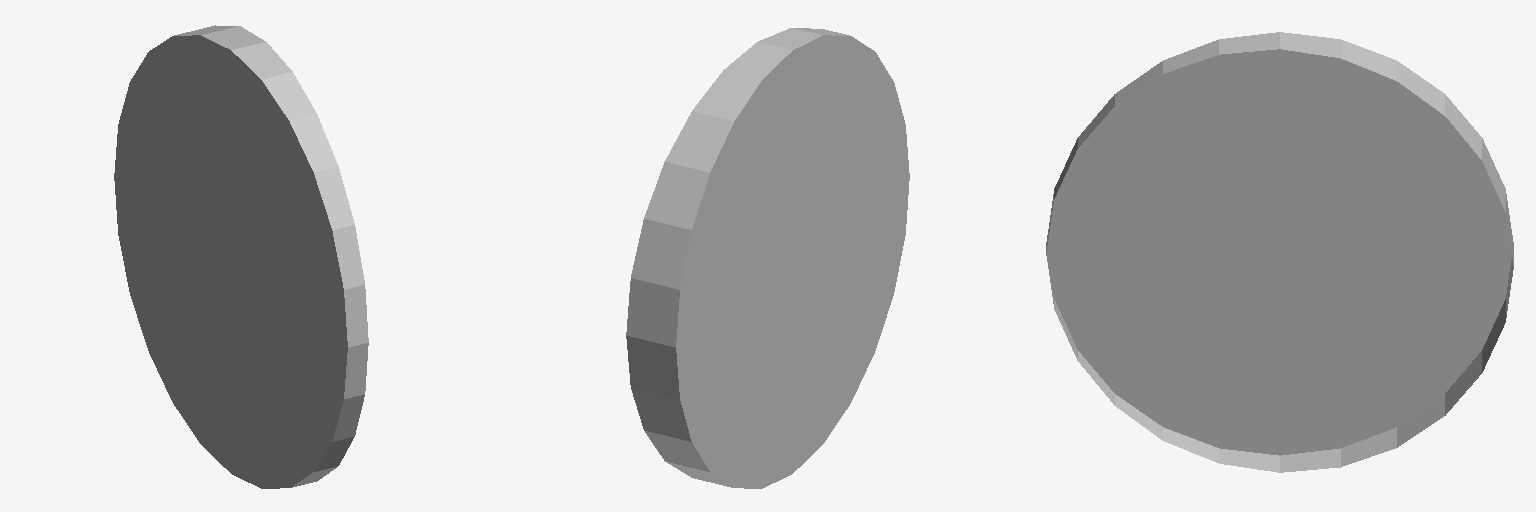
File: original-422.obj
3 views of the same model, side by side, from view 1: azimuth 30°, elevation 25°; view 2: azimuth 150°, elevation 25°; view 3: azimuth 270°, elevation 25° (orthographic).
Parts seen in each view (by area): view 1: #ID2382; view 2: #ID2382; view 3: #ID2382.
Part boxes in pixels (left/top/right/bottom): #ID2382: left=114, top=25, right=368, bottom=488; #ID2382: left=626, top=28, right=909, bottom=488; #ID2382: left=1046, top=32, right=1513, bottom=472.
Bounding box in the file's own units: 0.0014 × 0.0117 × 0.0117.